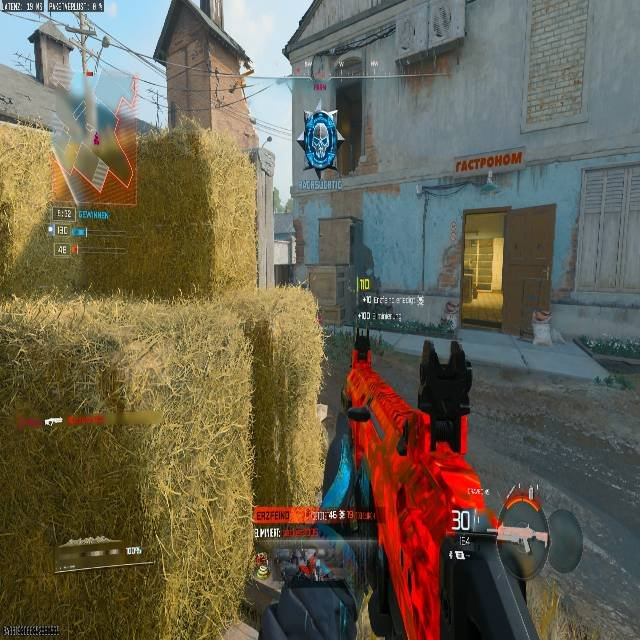player: (303, 107, 338, 177)
